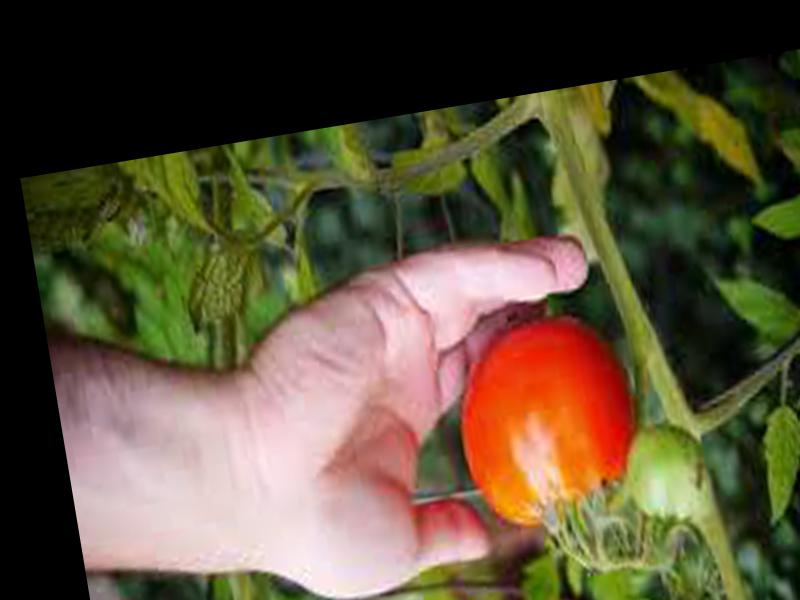Tomato: (444, 306, 655, 540)
